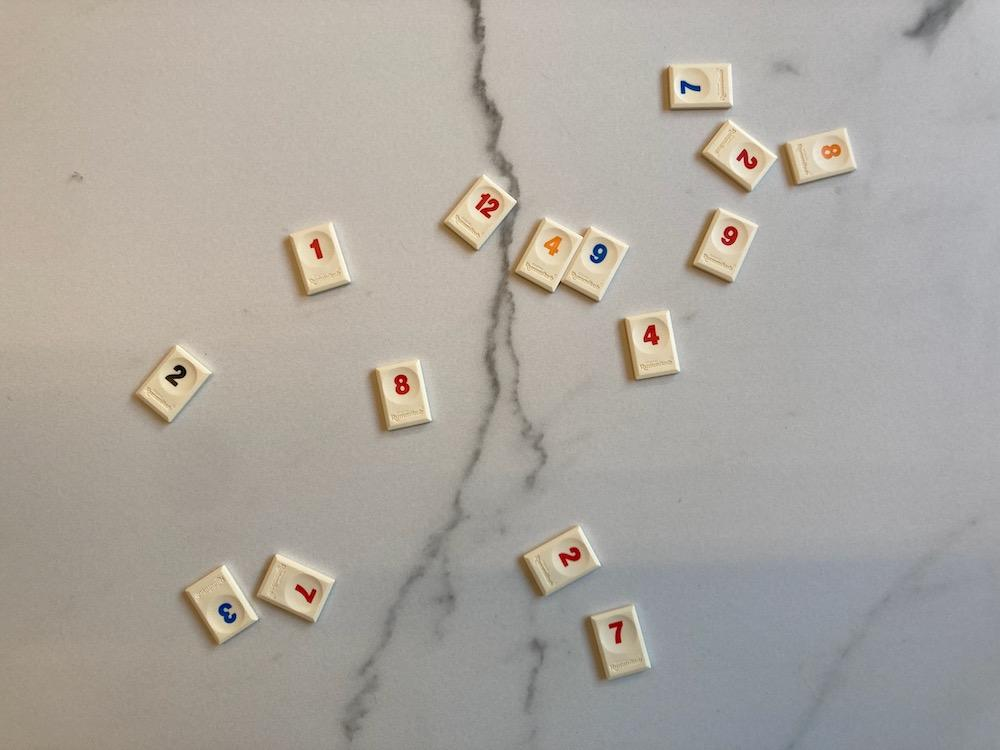black_2: (137, 346, 211, 422)
blue_3: (187, 564, 258, 643)
blue_7: (668, 64, 732, 109)
blue_9: (562, 227, 629, 301)
orange_4: (516, 219, 582, 291)
orange_8: (785, 129, 857, 184)
red_1: (290, 223, 350, 295)
red_12: (445, 176, 516, 250)
red_2: (701, 119, 777, 191), (523, 525, 600, 596)
red_4: (625, 312, 680, 378)
red_7: (259, 555, 334, 621), (590, 605, 650, 680)
red_8: (375, 359, 431, 429)
red_9: (693, 209, 758, 281)
